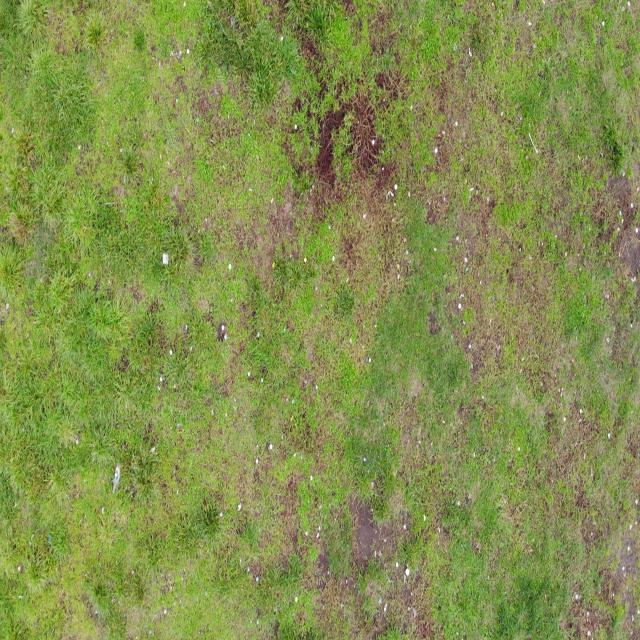rubbish: (112, 461, 122, 495), (163, 254, 168, 264)
